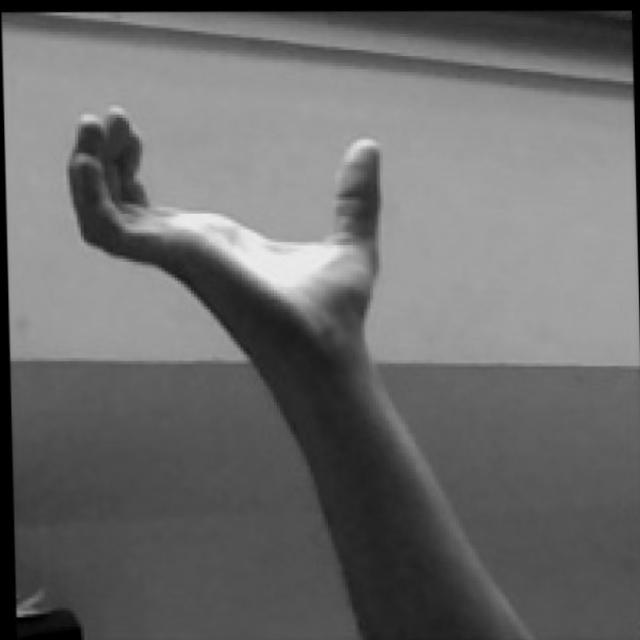space: (64, 93, 388, 354)
